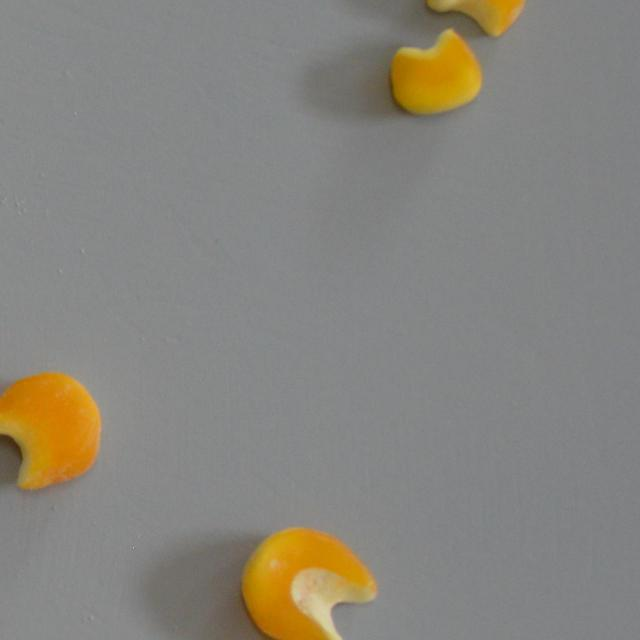no_canjicado: (239, 524, 378, 640), (388, 28, 482, 116)
pelicula: (0, 366, 102, 492), (426, 0, 528, 38)
